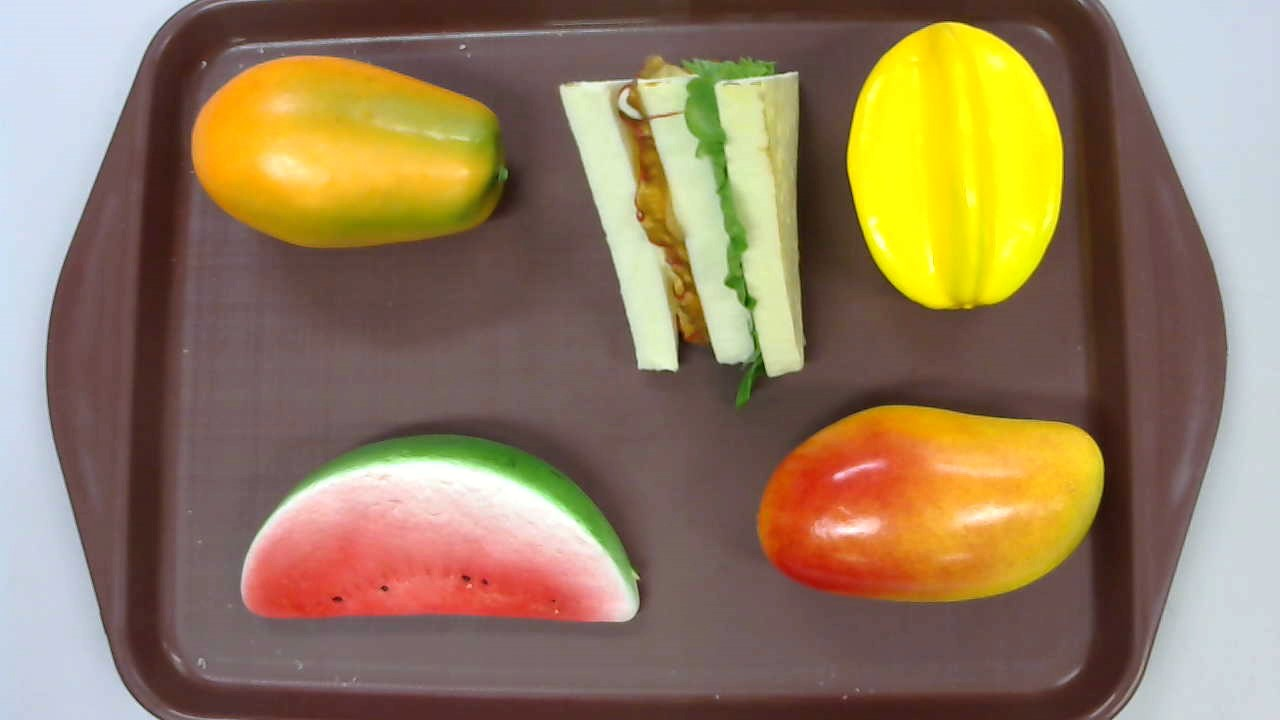papaya: (190, 54, 507, 249)
red mango: (756, 403, 1104, 603)
sandwich: (557, 55, 806, 409)
star fruit: (847, 21, 1065, 309)
watermelon: (239, 433, 640, 621)
